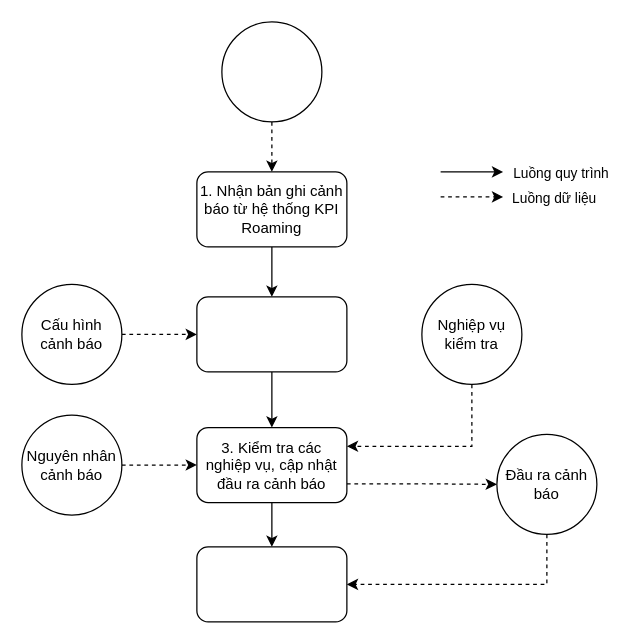
Image size: 631x644. Some labels were removed from this diagram. The shapes that lost their labels are listed below. From the top down, each one's box as (x1, y1, x2, y2) in pixels, then its label:
(221, 21, 322, 122): Đầu vào cảnh báo
(196, 296, 347, 372): 2. Phân loại cảnh báo theo điều kiện
(196, 546, 347, 622): 4. Tạo ticket trên BCCS cho cảnh báo
